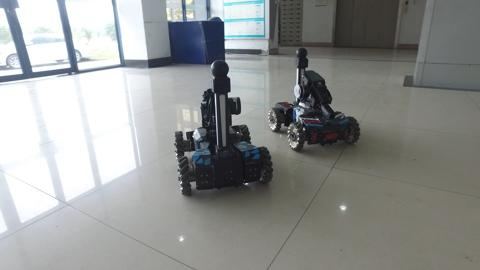chariot: (165, 58, 279, 196), (266, 45, 361, 167)
